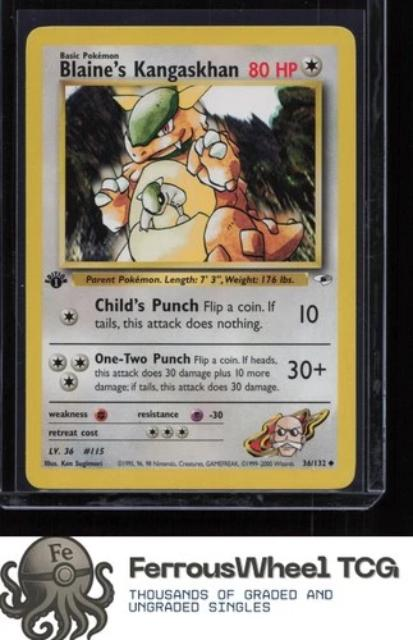Card: (22, 20, 362, 493)
Name: (55, 57, 243, 83)
